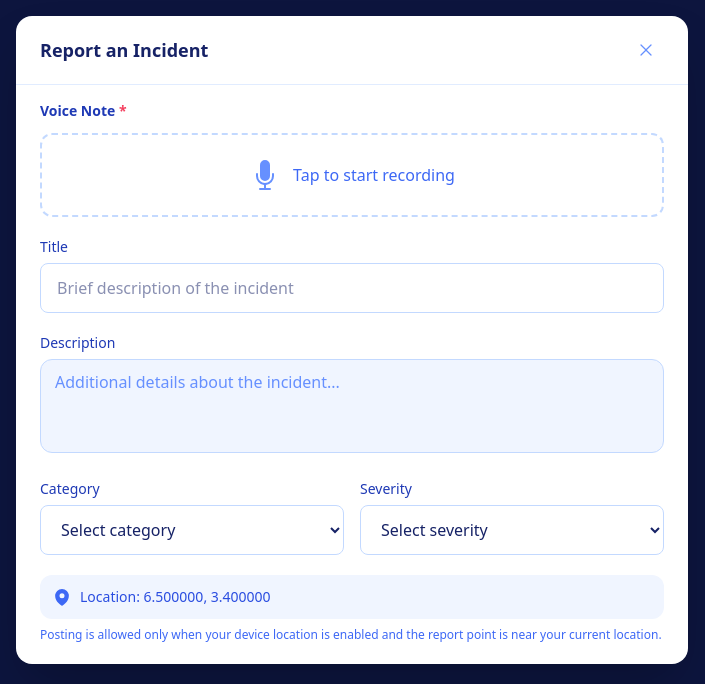
it: VoiceUploadModal › deletes recording when delete button is clicked
Click the button "Tap to start recording": (352, 175) [40, 133, 664, 217]
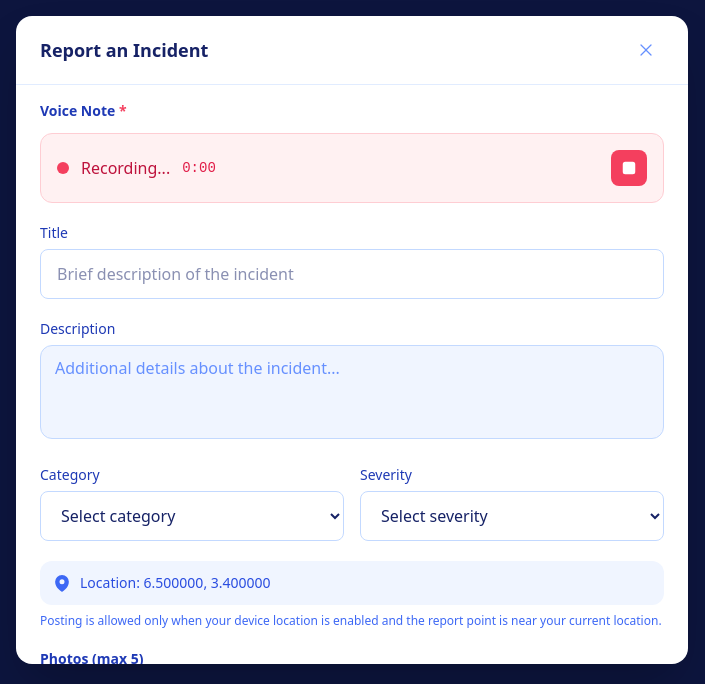
Expected: the text "Recording..." is shown, [81, 156, 170, 180]
Click the button without text in the row of "0:00": (629, 168) [611, 150, 647, 186]
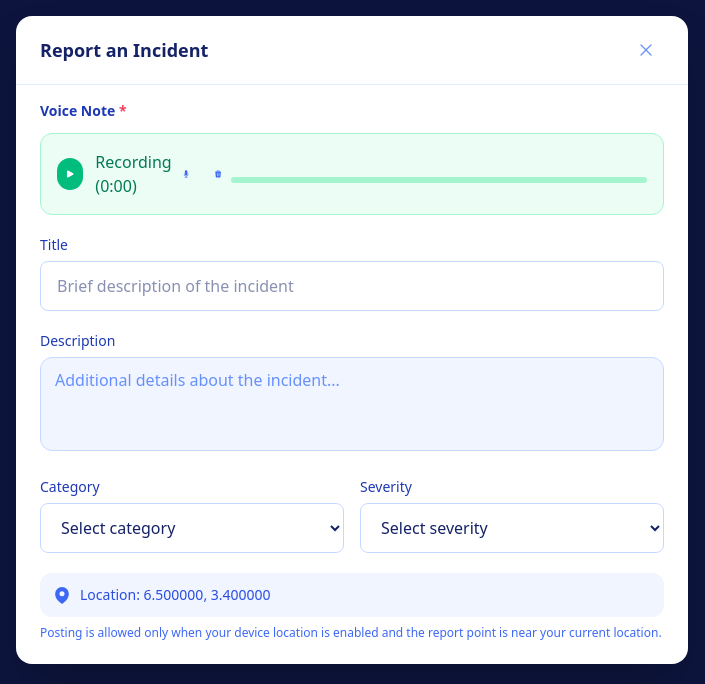
Expected: the text "Recording..." is not shown
Click the button titled "Delete": (218, 174) [206, 156, 230, 192]
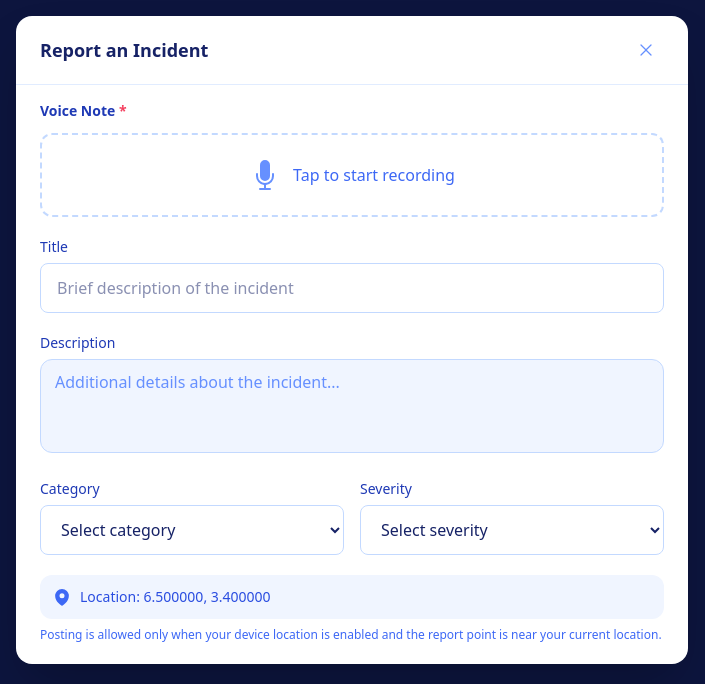
Expected: the text "Tap to start recording" is shown, [293, 163, 455, 187]
